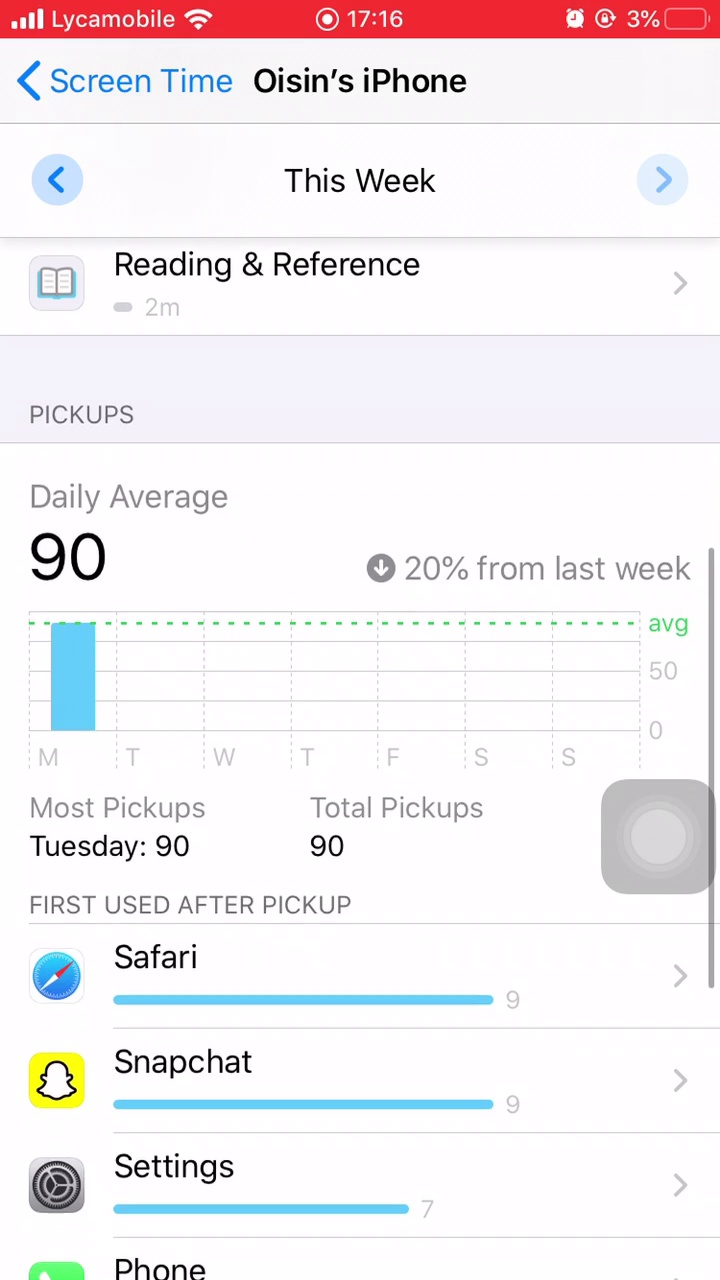pick_app: (28, 936, 565, 1027), (18, 1041, 567, 1125), (18, 1149, 496, 1224)
pick_over: (29, 783, 539, 882)
week: (260, 156, 456, 207)
